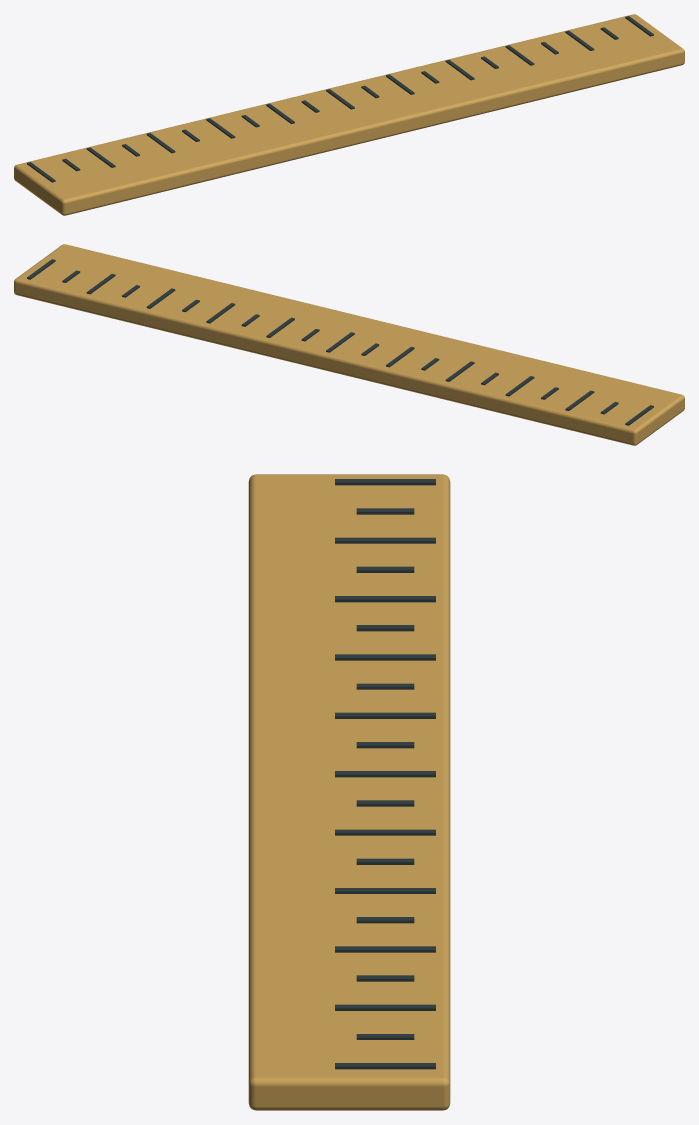
File: ruler.glb
The picture shows the model from 3 angles, top to bottom: view 1: azimuth 30°, elevation 25°; view 2: azimuth 150°, elevation 25°; view 3: azimuth 270°, elevation 25°; orthographic projection. The views are drawn at different scales.
Visible parts, largest first — view 1: ruler; view 2: ruler; view 3: ruler.
Part boxes in pixels (left/top/right/bottom): ruler: left=14, top=14, right=684, bottom=215; ruler: left=14, top=244, right=684, bottom=445; ruler: left=248, top=474, right=450, bottom=1110.
Size of the model in its own units: 1 by 0.0275 by 0.14.
